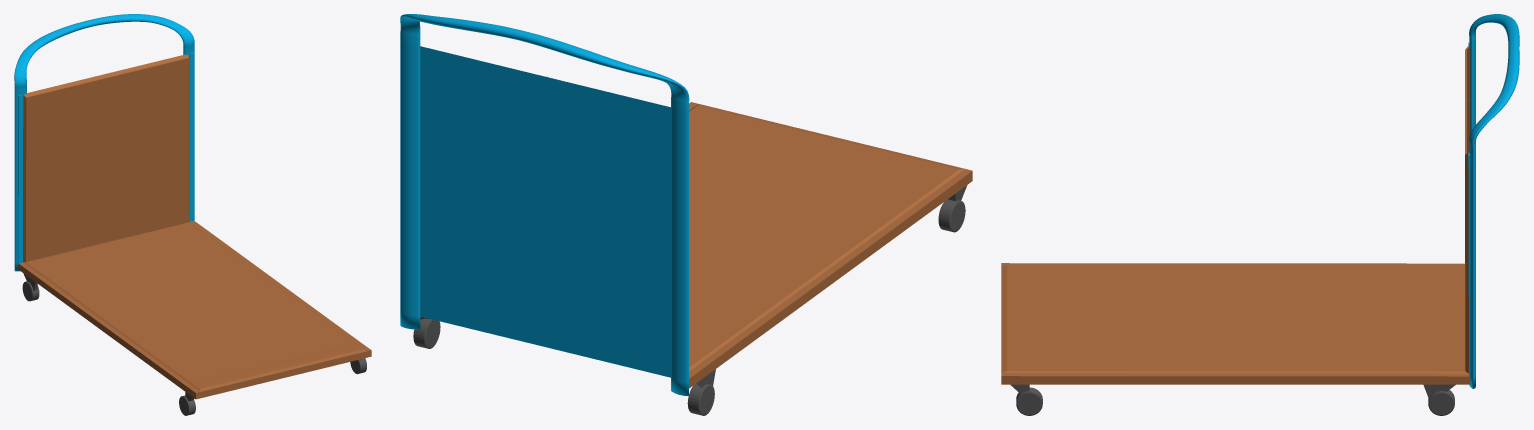
The model's file is PlatformTrolley.fbx.
3 views of the same model, side by side, from view 1: azimuth 30°, elevation 25°; view 2: azimuth 150°, elevation 25°; view 3: azimuth 270°, elevation 25° (orthographic). The views are drawn at different scales.
Visible parts, largest first — view 1: PlatformTrolley; view 2: PlatformTrolley; view 3: PlatformTrolley.
Boxes of the visible parts, bbox=[...] form: PlatformTrolley: bbox=[14, 14, 371, 415]; PlatformTrolley: bbox=[400, 14, 972, 415]; PlatformTrolley: bbox=[1001, 14, 1519, 415].
Bounding box in the file's own units: 91.96 × 174 × 116.
